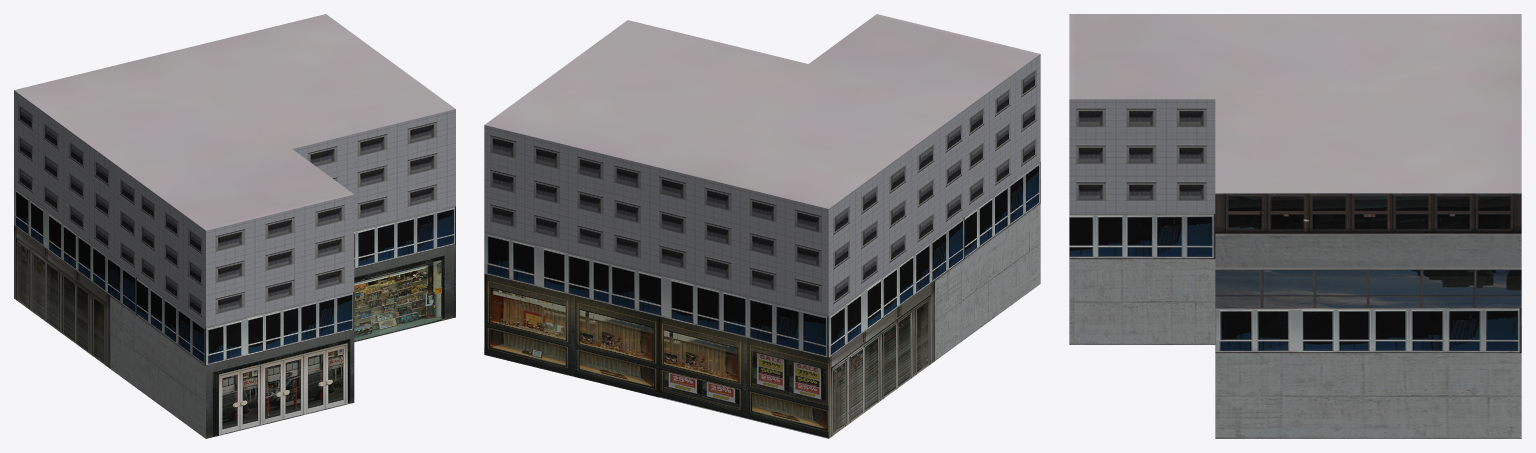
The model's file is C_Building02.fbx.
The picture shows the model from 3 angles, left to right: view 1: azimuth 30°, elevation 25°; view 2: azimuth 150°, elevation 25°; view 3: azimuth 270°, elevation 25°; orthographic projection. The views are drawn at different scales.
Parts seen in each view (by area): view 1: C_Building02; view 2: C_Building02; view 3: C_Building02.
Part boxes in pixels (x1,y1,x2,y2): C_Building02: (14, 14, 455, 438); C_Building02: (484, 14, 1040, 438); C_Building02: (1069, 14, 1521, 438).
Size of the model in its own units: 3050 by 1946 by 3250.
